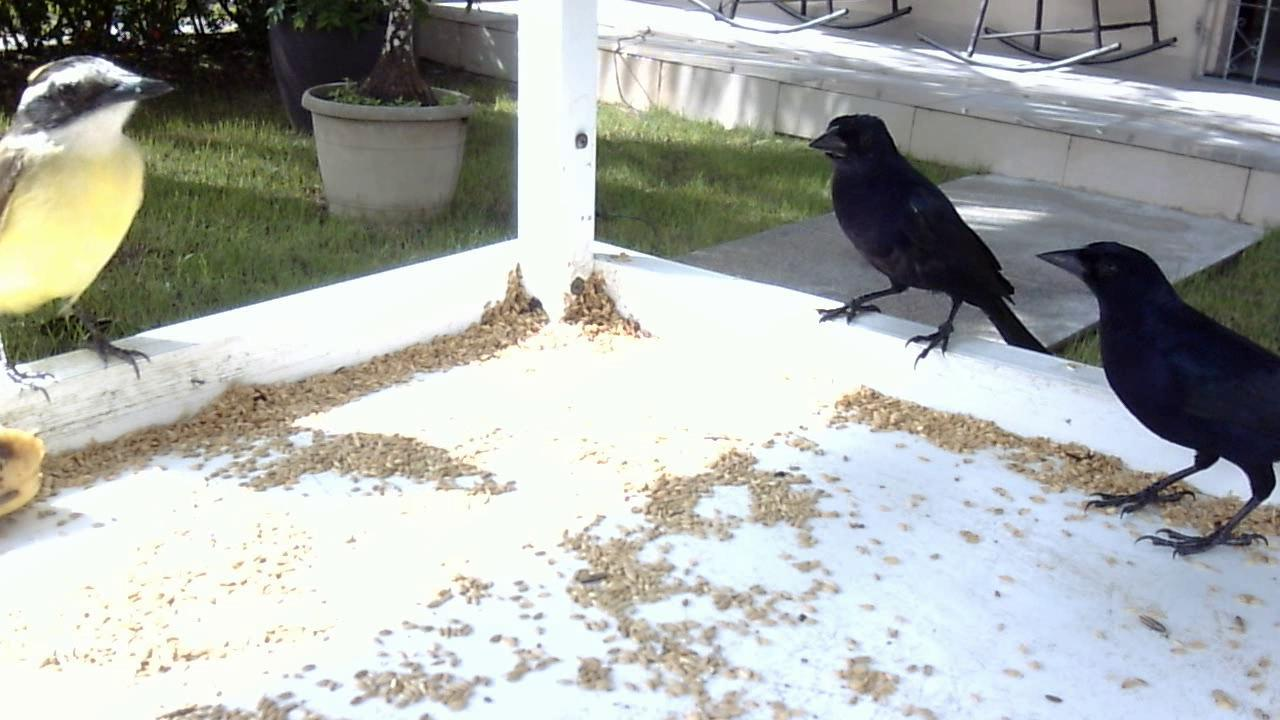bem_te_vi: (1, 42, 187, 417)
chupim: (1035, 228, 1280, 568), (796, 103, 1065, 373)
